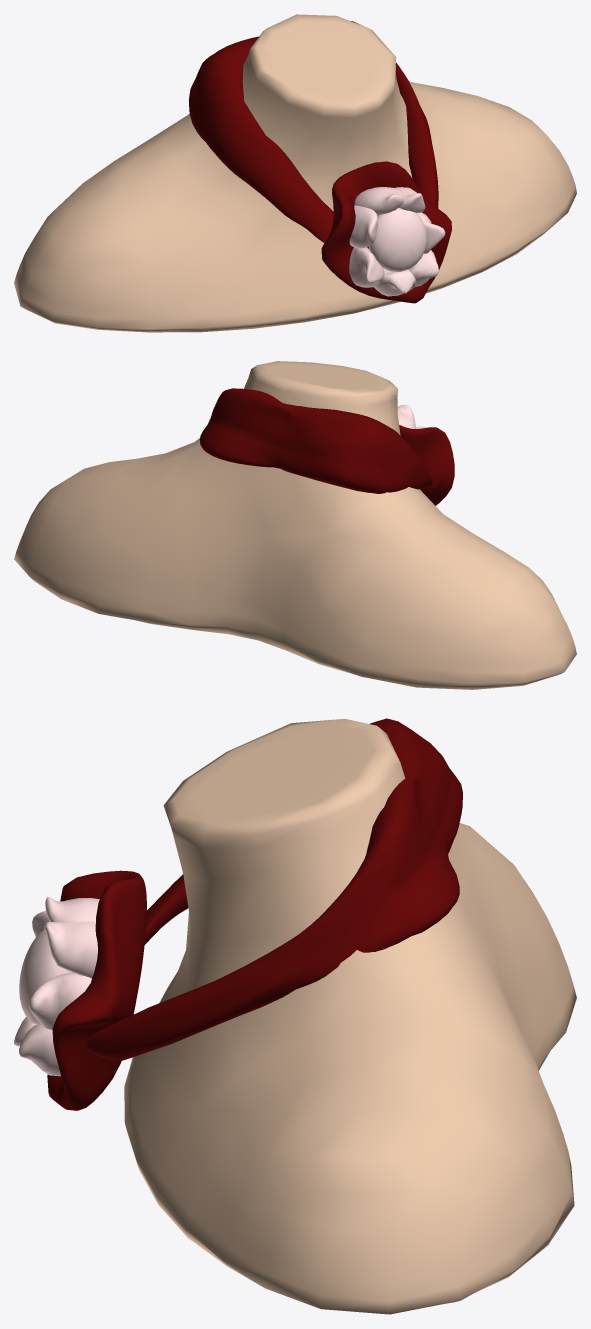
3 renders of one model, top to bottom at view 1: azimuth 30°, elevation 25°; view 2: azimuth 150°, elevation 25°; view 3: azimuth 270°, elevation 25°, orthographic. The views are drawn at different scales.
Parts seen in each view (by area): view 1: Obj_Avatar_Shape (×3); view 2: Obj_Avatar_Shape (×2); view 3: Obj_Avatar_Shape (×3).
Boxes of the visible parts, left/top/right/bottom form: Obj_Avatar_Shape (×3): left=14, top=14, right=576, bottom=332; Obj_Avatar_Shape (×2): left=14, top=361, right=576, bottom=689; Obj_Avatar_Shape (×3): left=14, top=718, right=576, bottom=1314.
Size of the model in its own units: 0.8466 by 0.3454 by 0.4774.
